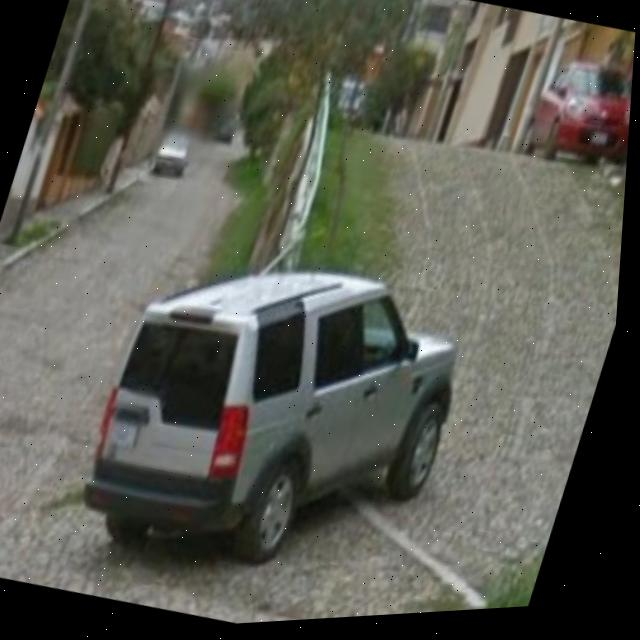vehicle: (73, 231, 493, 617), (521, 52, 636, 186), (150, 124, 202, 180)
